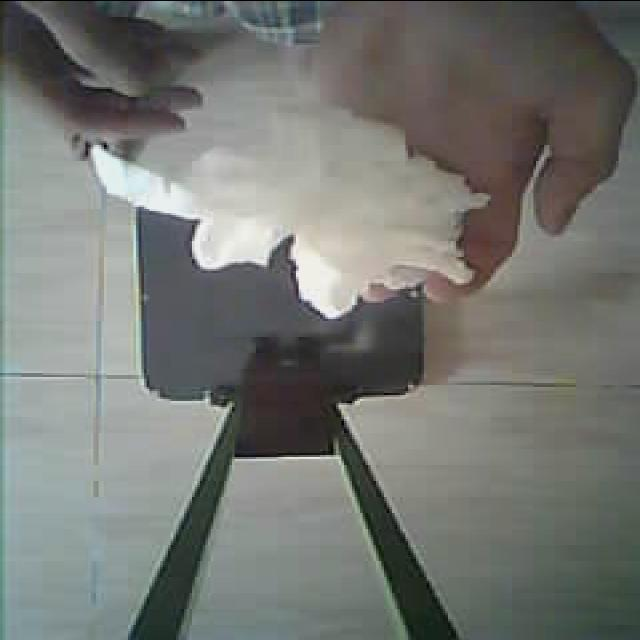Paper: (95, 139, 494, 312)
